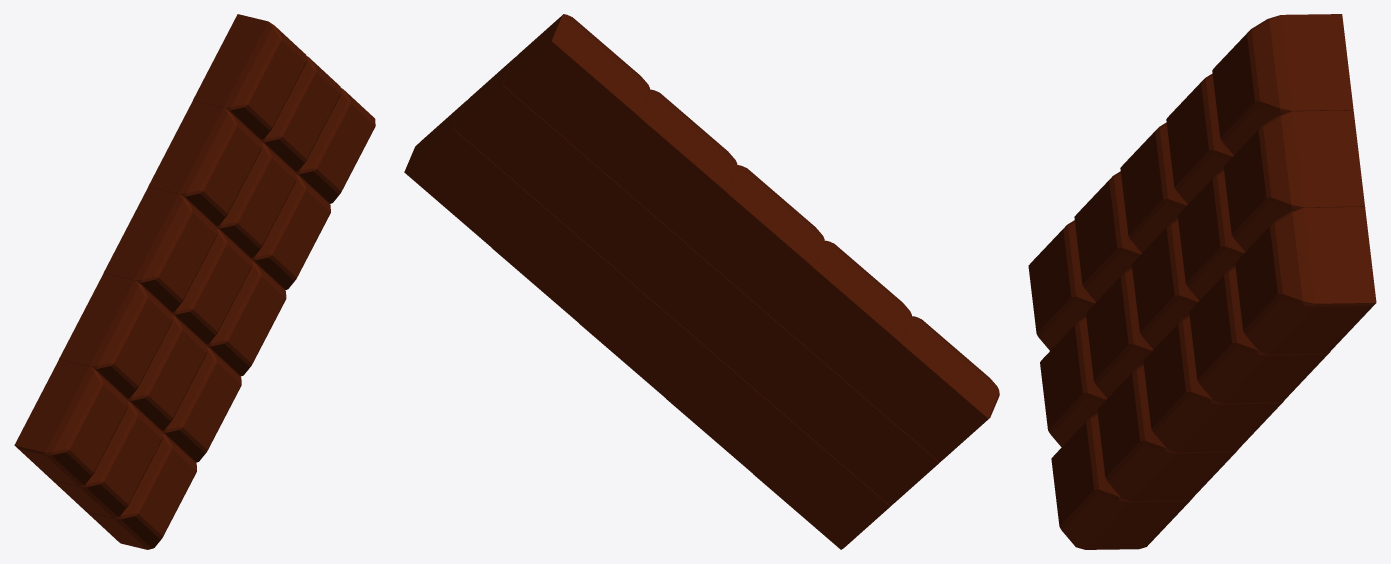
The model's file is ExportedBlenderFBXFile 2.fbx.
3 renders of one model, left to right at view 1: azimuth 30°, elevation 25°; view 2: azimuth 150°, elevation 25°; view 3: azimuth 270°, elevation 25°, orthographic. The views are drawn at different scales.
Visible parts, largest first — view 1: Plane; view 2: Plane; view 3: Plane.
Boxes of the visible parts, x1,y1,x2,y2 form: Plane: [14, 14, 375, 549]; Plane: [404, 14, 999, 549]; Plane: [1028, 14, 1376, 549].
Bounding box in the file's own units: 2.75 × 2.74 × 1.27.
